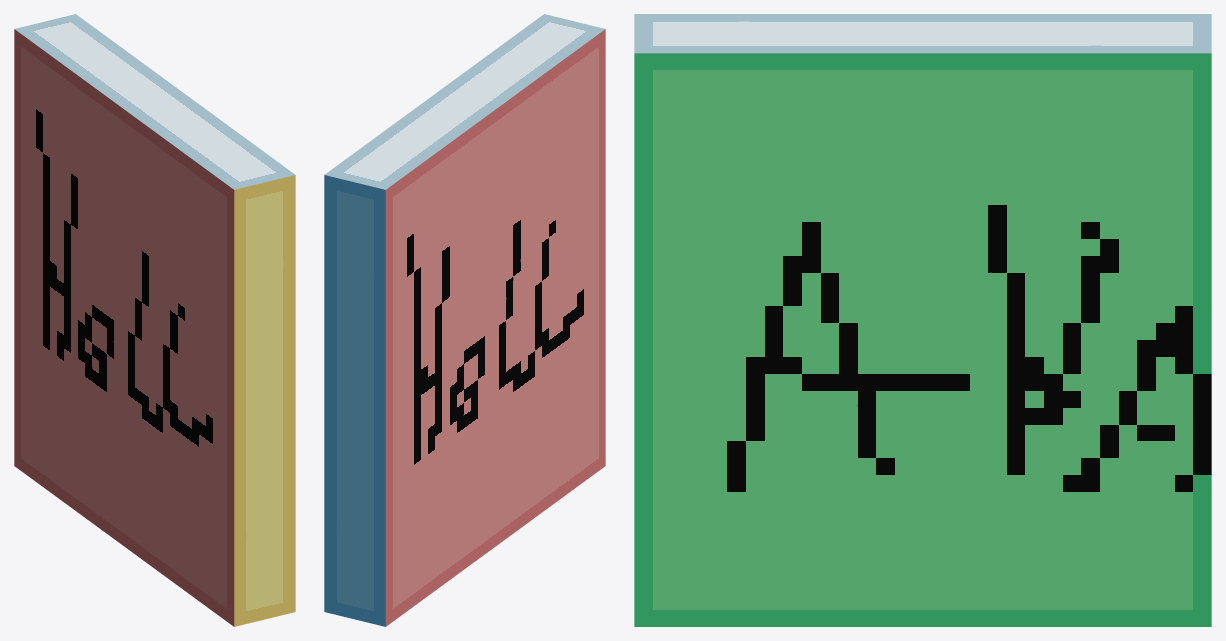
Rendered from ppp.gltf.
3 views of the same model, side by side, from view 1: azimuth 30°, elevation 25°; view 2: azimuth 150°, elevation 25°; view 3: azimuth 270°, elevation 25° (orthographic). The views are drawn at different scales.
Visible parts, largest first — view 1: cube; view 2: cube; view 3: cube.
Part boxes in pixels (left/top/right/bottom): cube: left=14, top=14, right=295, bottom=626; cube: left=324, top=14, right=605, bottom=626; cube: left=634, top=14, right=1211, bottom=626.
Size of the model in its own units: 0.3125 by 2.12 by 1.94.
Materials: 1 (1 with a texture image).
